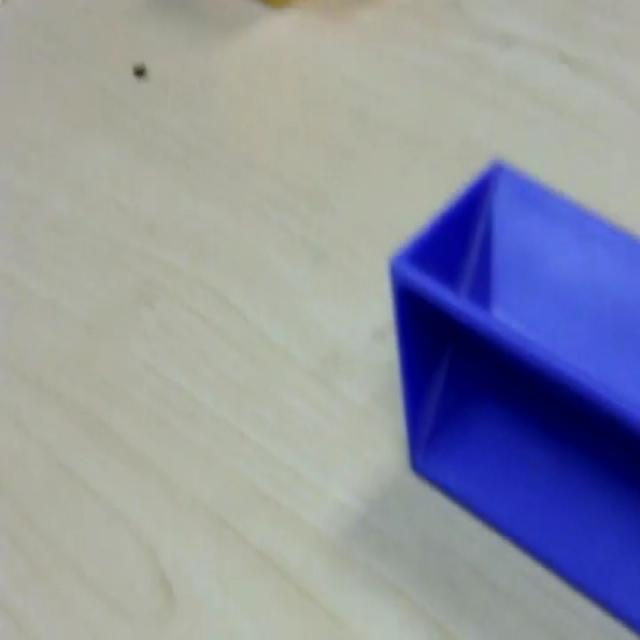blue_block: (388, 155, 638, 632)
